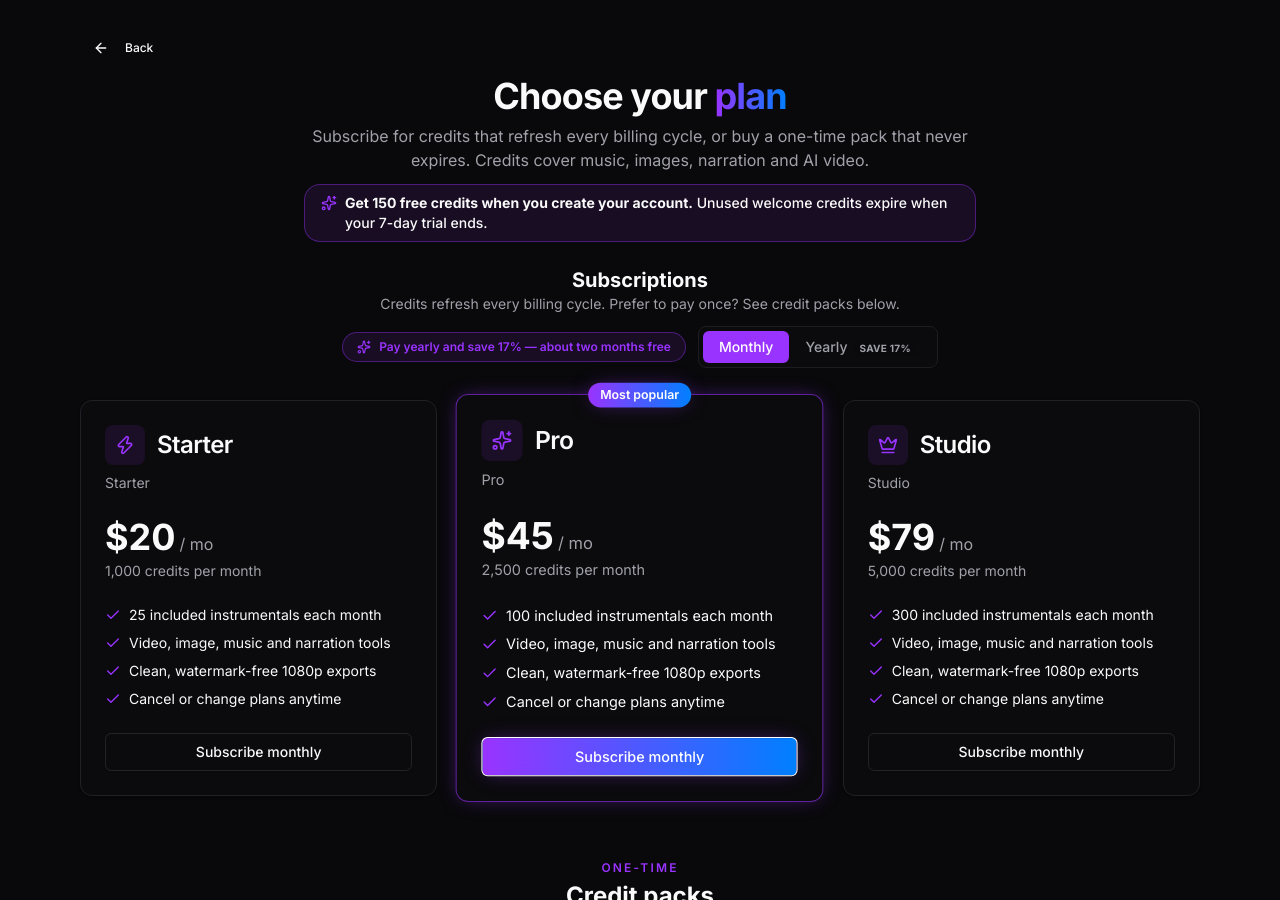
Scenario: pricing interval selection › shows only each tier's own included instrumental count and keeps annual totals
This screenshot has width=1280, height=900.
Check: the element with test id "card-plan-starter" shows "25 included instrumentals", box left=80, top=400, right=437, bottom=796
Check: the element with test id "card-plan-starter" does not show "100 included"
What coordinates should you click on to do the following:
click the 3rd button
I would click on:
 (861, 347)
Its box is left=789, top=331, right=933, bottom=363.
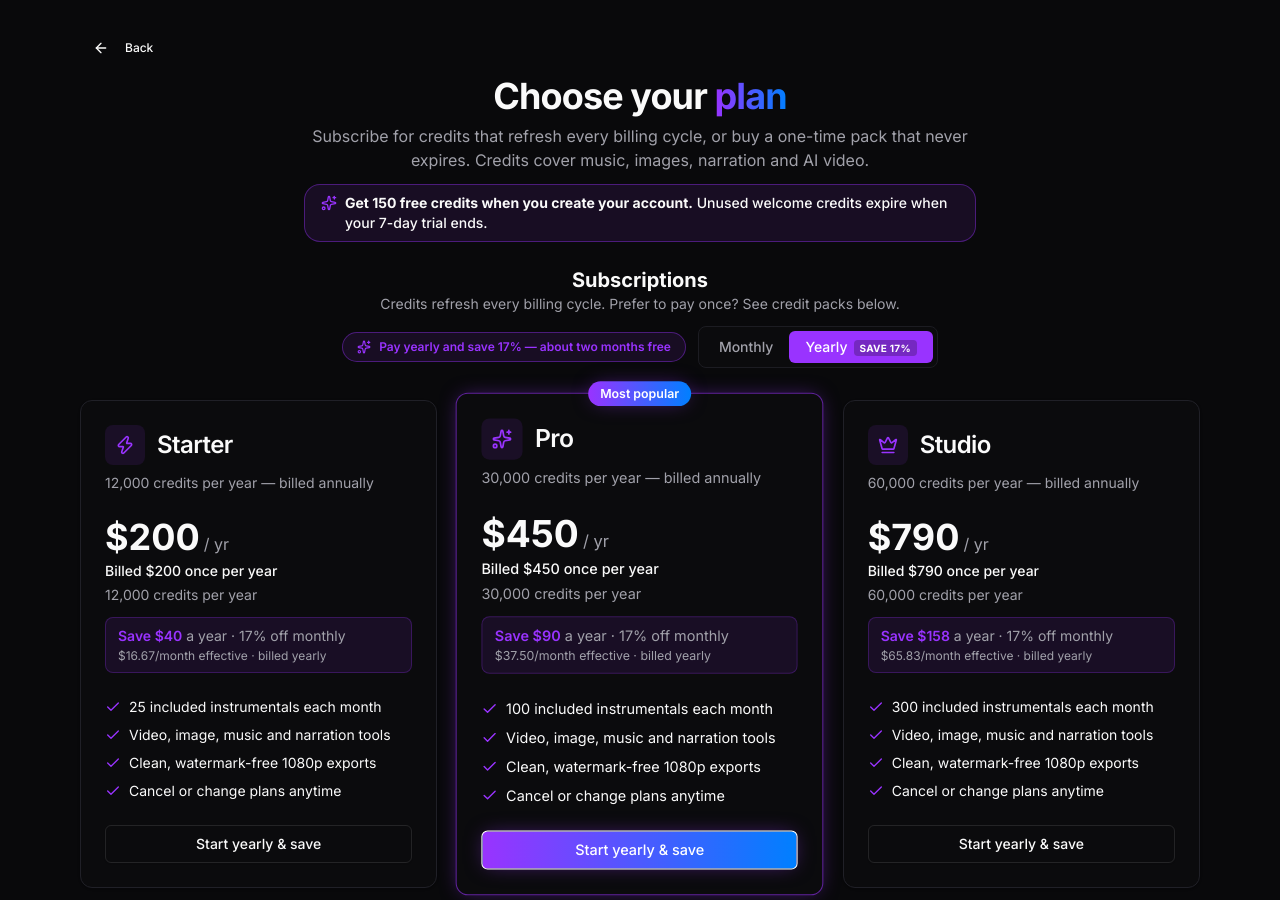
Check: the element with test id "card-plan-studio" shows "60,000 credits per year", box left=868, top=474, right=1139, bottom=491
Check: the element with test id "card-plan-studio" shows "Billed $790 once per year", box left=843, top=400, right=1200, bottom=888
